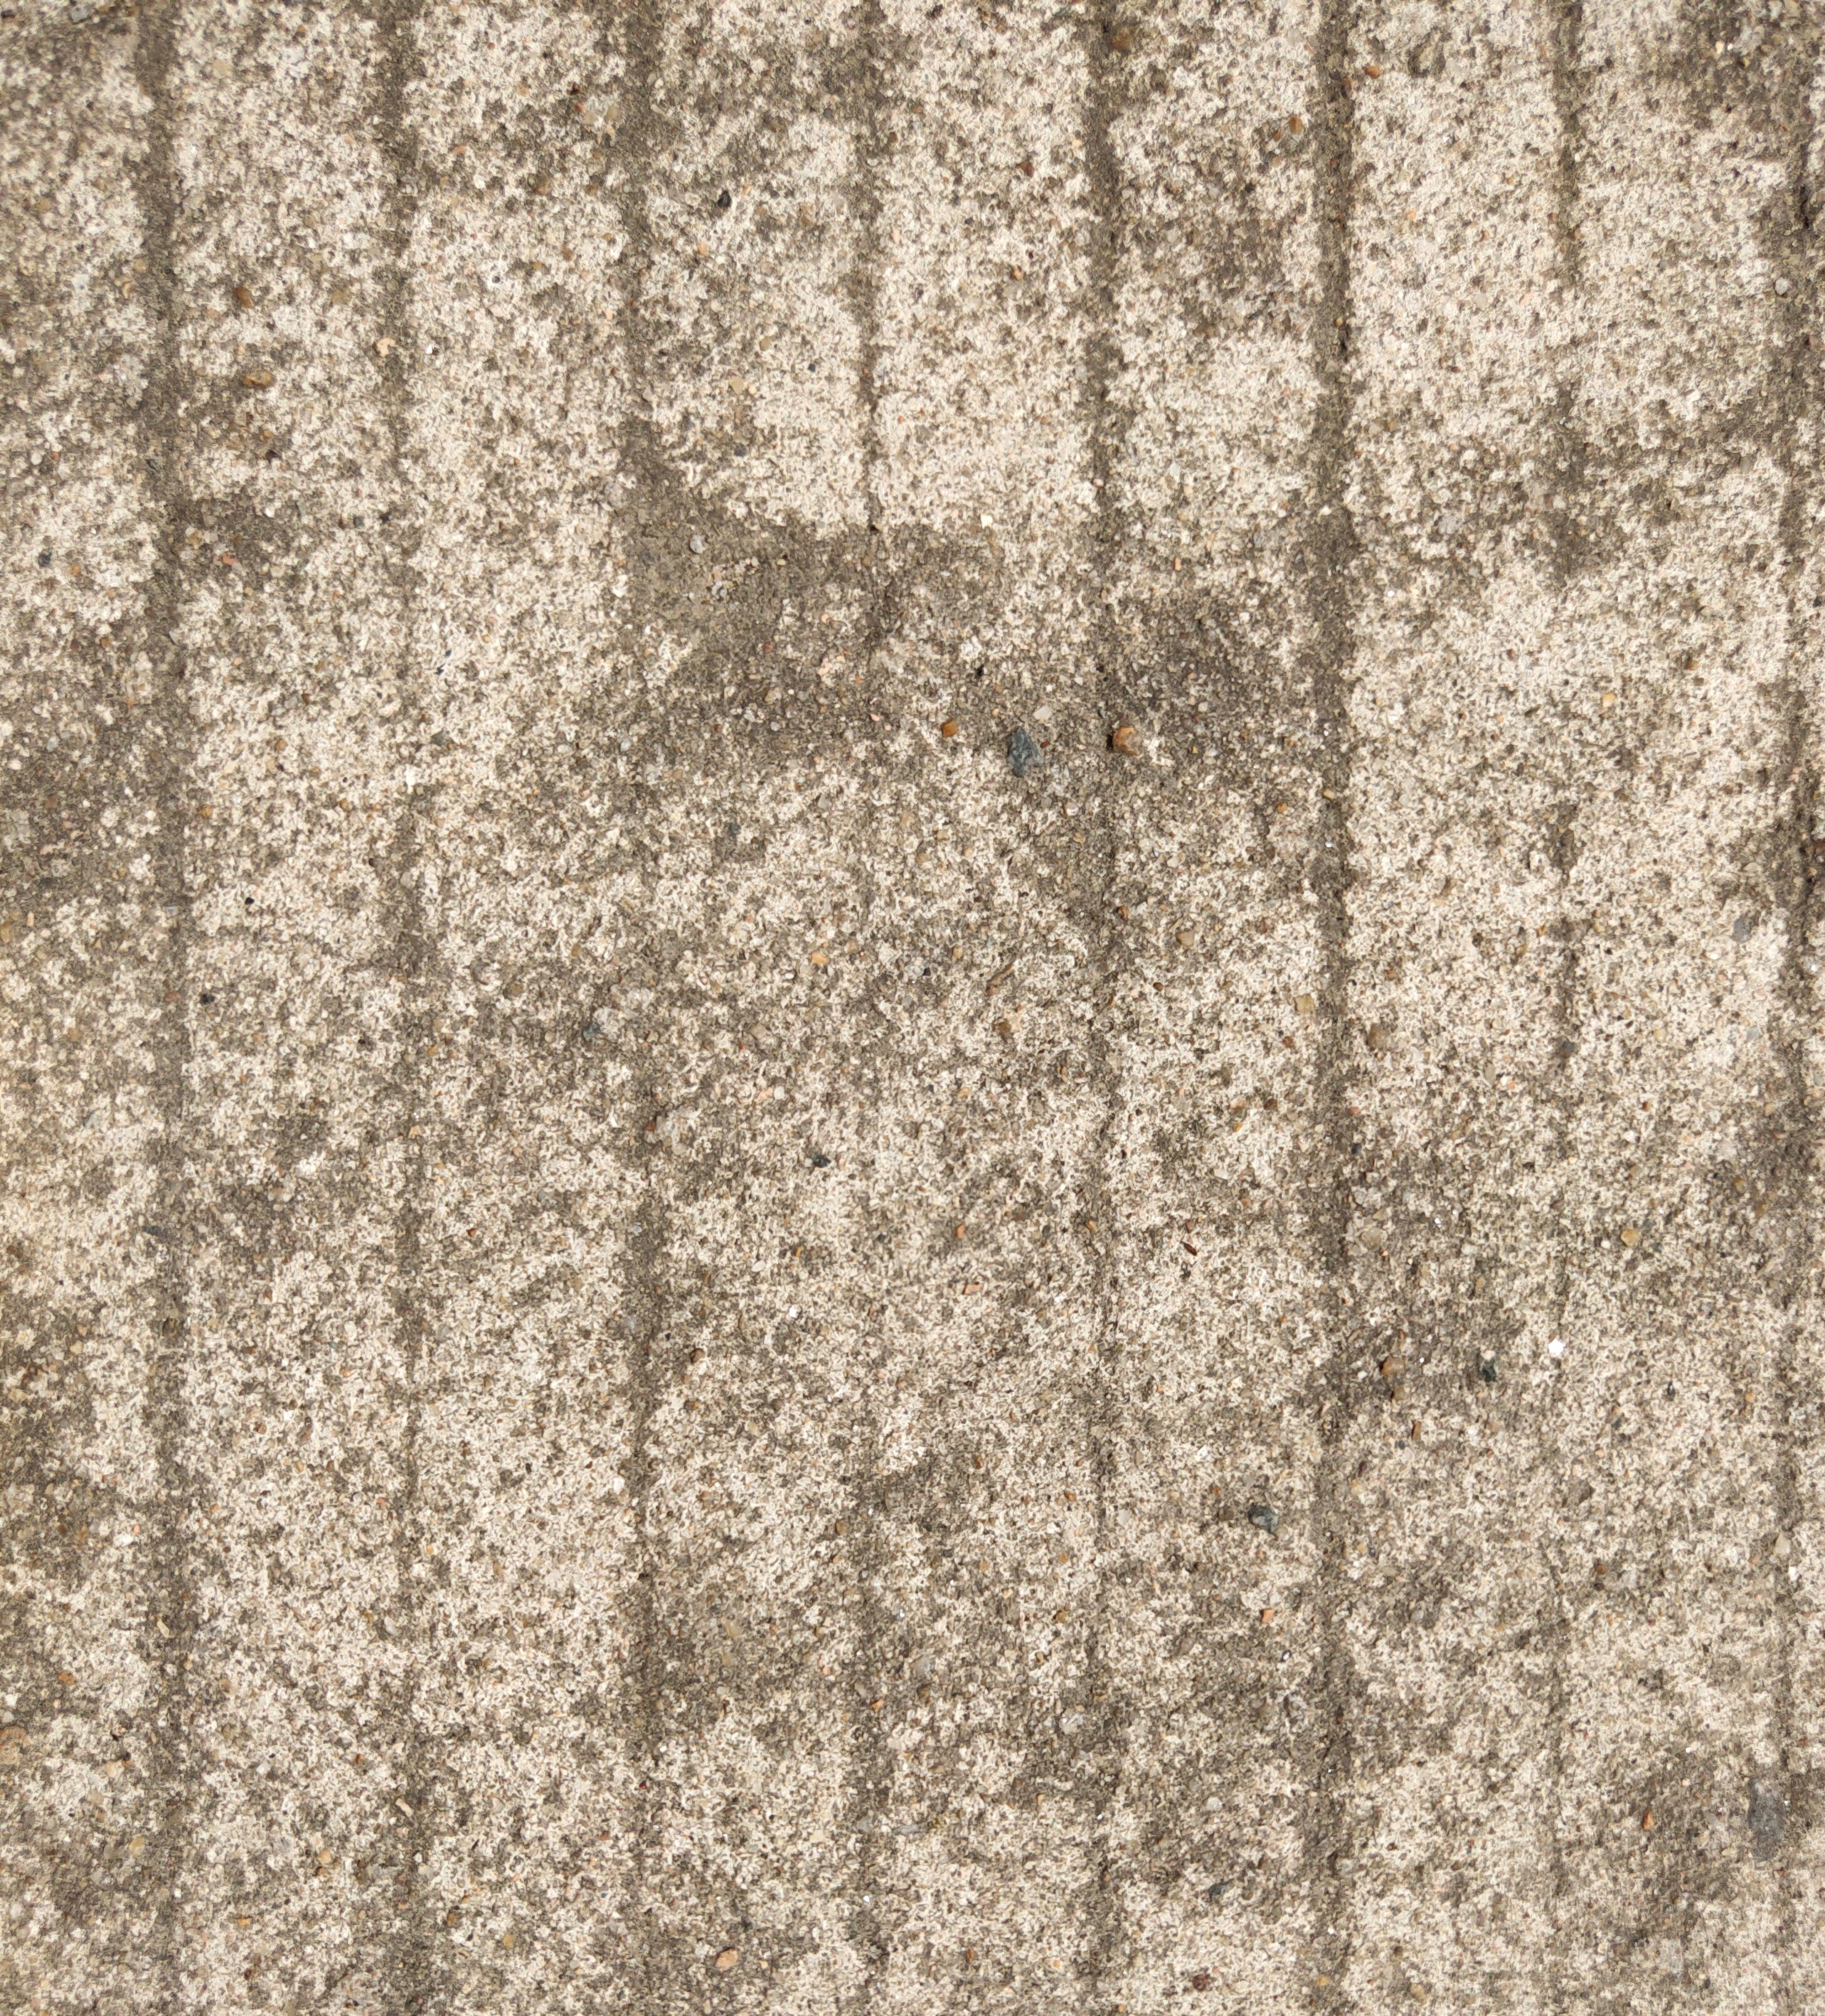ash pile: (613, 413, 1295, 864), (2, 722, 100, 918)
